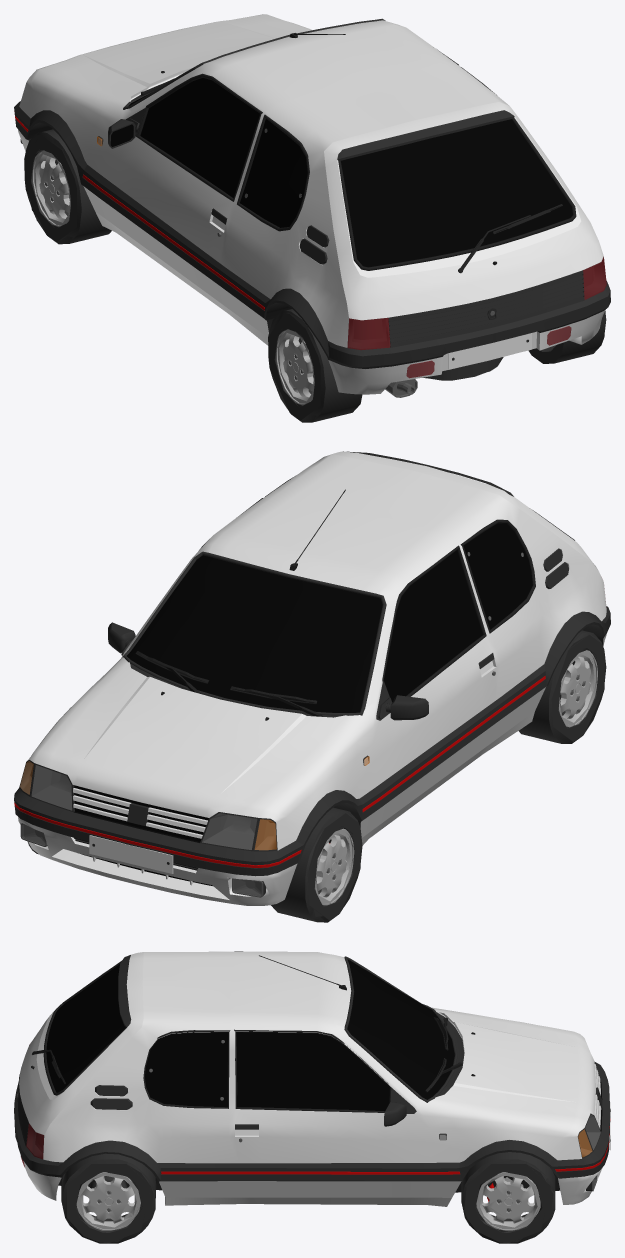
Rendered from peugeot_205-jPO-ta6C.glb.
3 views of the same model, one above another, from view 1: azimuth 30°, elevation 25°; view 2: azimuth 150°, elevation 25°; view 3: azimuth 270°, elevation 25° (orthographic). The views are drawn at different scales.
Visible parts, largest first — view 1: carBody, windows, rRWheel, rFWheel, lFWheel.001, spareWheel; view 2: carBody, windows, rFWheel, rRWheel, rightHeadlightReflector; view 3: carBody, windows, lFWheel, lFWheel.001.
Boxes of the visible parts, x1,y1,x2,y2 form: carBody: (14,14,610,397); windows: (128,78,572,267); rRWheel: (268,309,362,422); rFWheel: (24,129,111,244); lFWheel.001: (528,311,606,363); spareWheel: (422,357,503,380); carBody: (14,451,610,905); windows: (127,523,532,712); rFWheel: (271,807,362,922); rRWheel: (519,630,606,743); rightHeadlightReflector: (31,765,72,810); carBody: (14,951,610,1206); windows: (46,960,454,1111); lFWheel: (461,1152,555,1243); lFWheel.001: (61,1153,156,1243).
Size of the model in its own units: 1.39 by 1.18 by 2.74.
